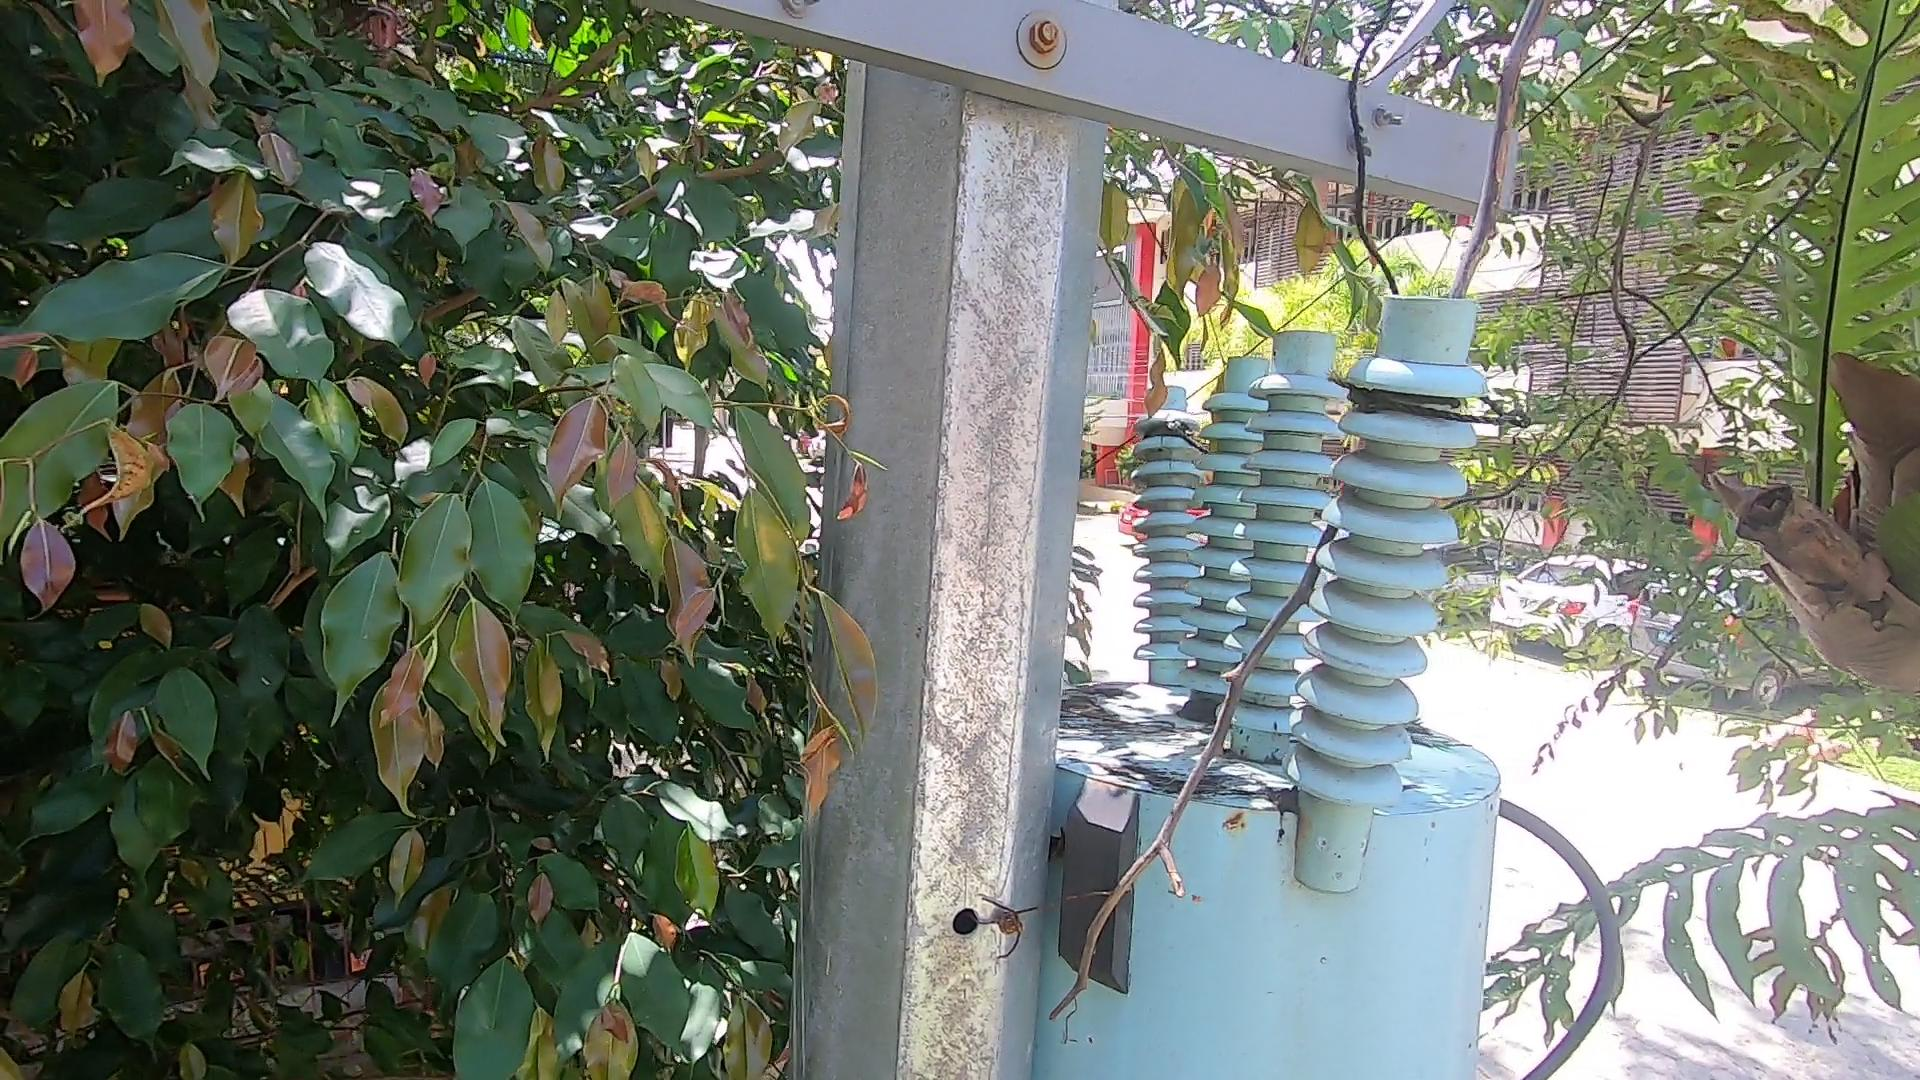branch with leaves: (1088, 208, 1424, 430)
leaf: (1258, 771, 1331, 825), (1170, 684, 1229, 735)
tree branch: (961, 18, 1578, 1027)
